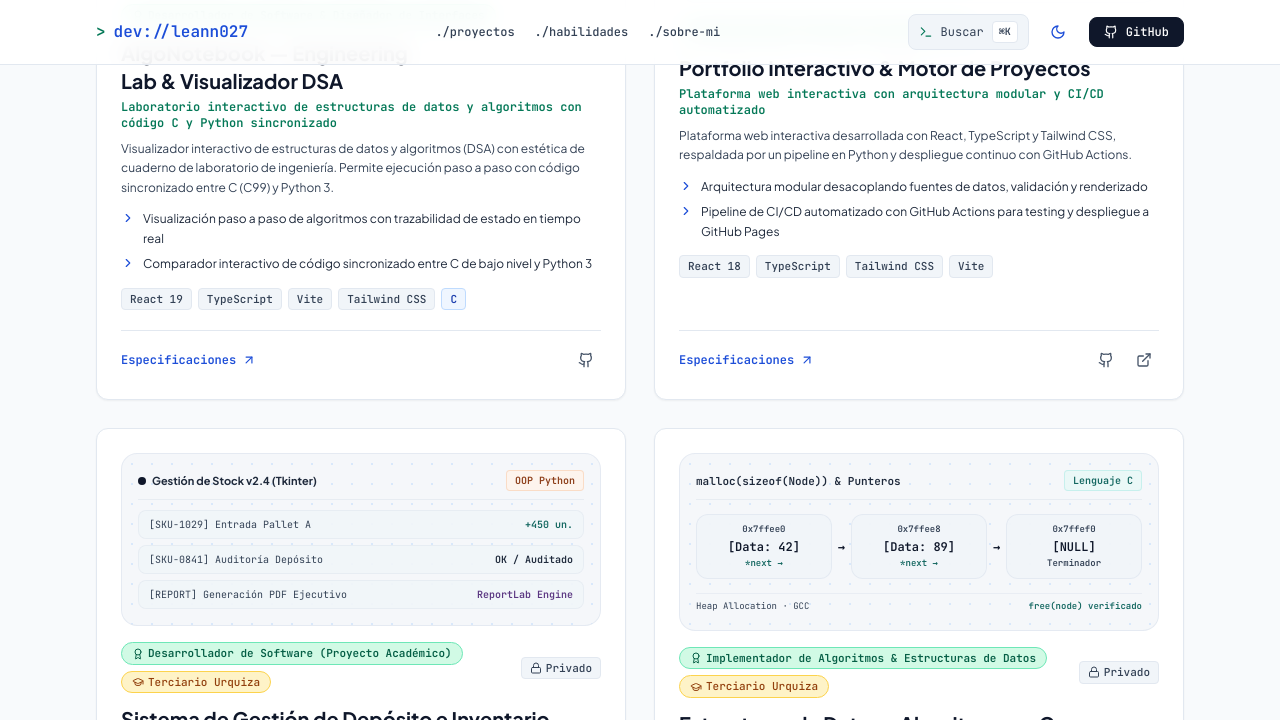
Test: Automated Accessibility Audits (axe-core) › validates modal accessibility dialog contracts and flags pending M3 attributes
(page scrolled)
Click the button with test id "btn-details-portfolio-hub" at {"x": 747, "y": 360}, box [679,352,814,368]
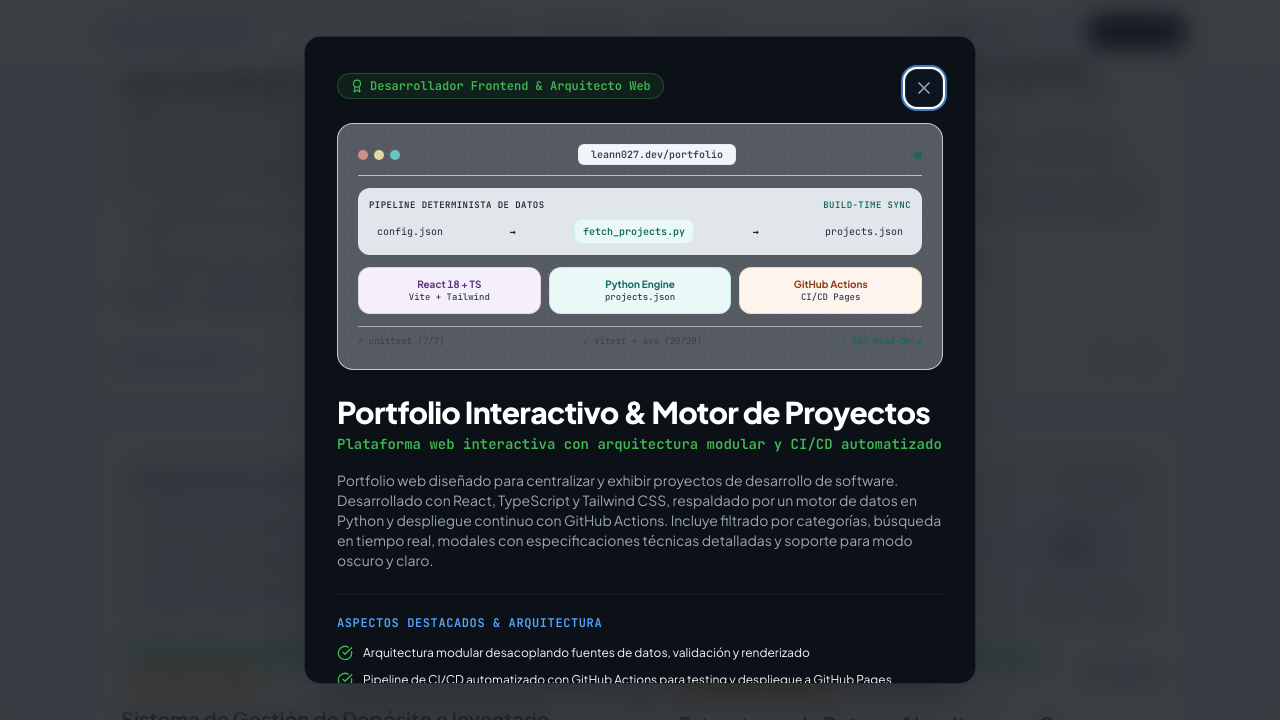
Expected: the dialog is shown
